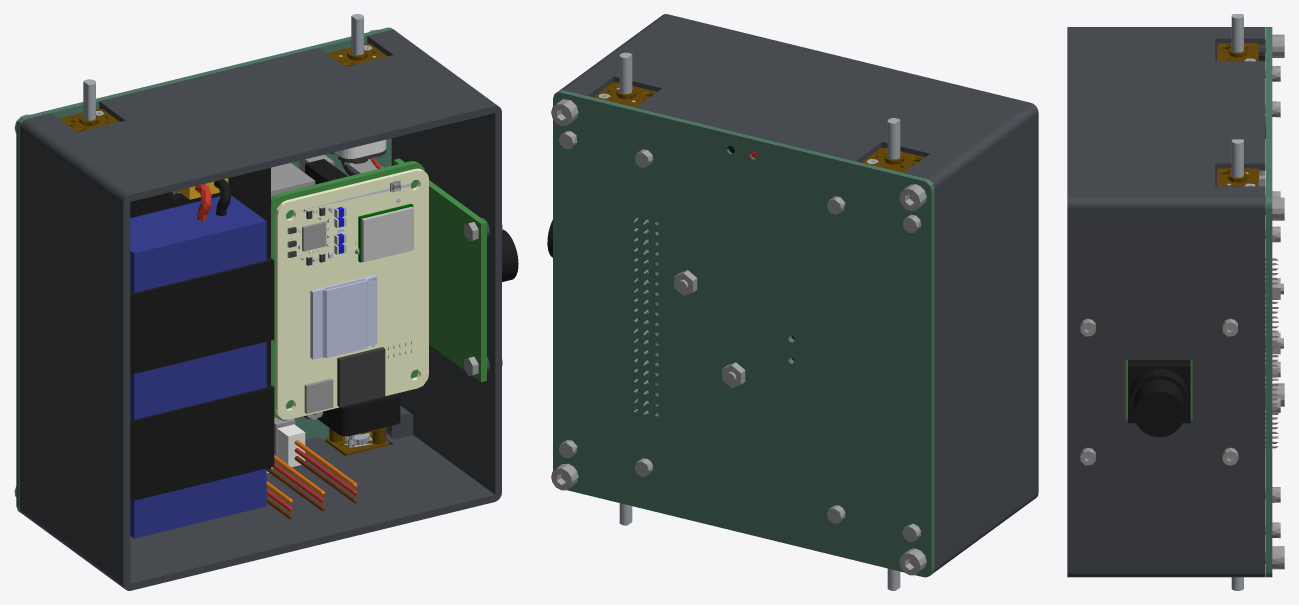
Rendered from chassis.obj.
The picture shows the model from 3 angles, left to right: view 1: azimuth 30°, elevation 25°; view 2: azimuth 150°, elevation 25°; view 3: azimuth 270°, elevation 25°; orthographic projection. The views are drawn at different scales.
Bounding box in the file's own units: 0.1136 × 0.118 × 0.052.
